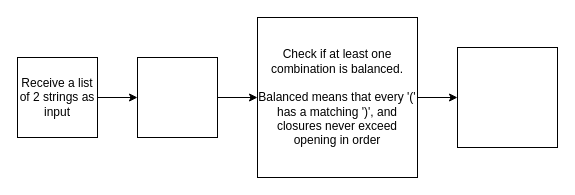
The diagram is 575 pixels wide and 195 high, and some of its shapes have lost their labels. Each missing label, with the centre of its shape:
Concatenate the strings with both combinations: (x=177, y=97)
Return 'No' if both the combinations are unbalanced, 'Yes' otherwise: (x=507, y=97)
